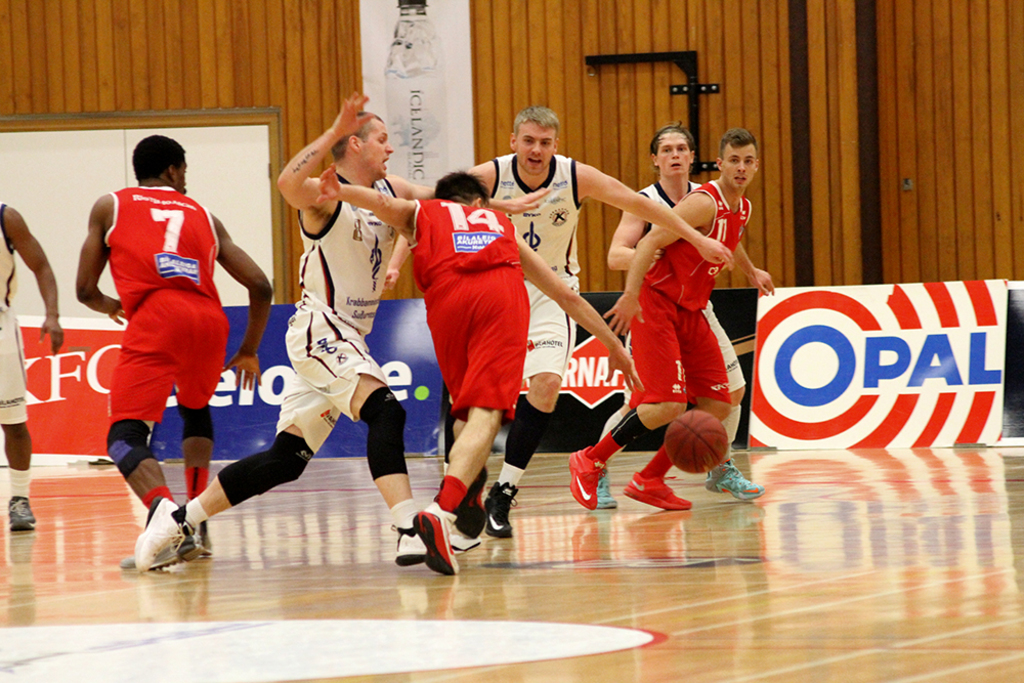Ball: (667, 407, 730, 476)
